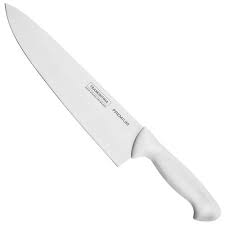kuchillu: (2, 1, 221, 223)
